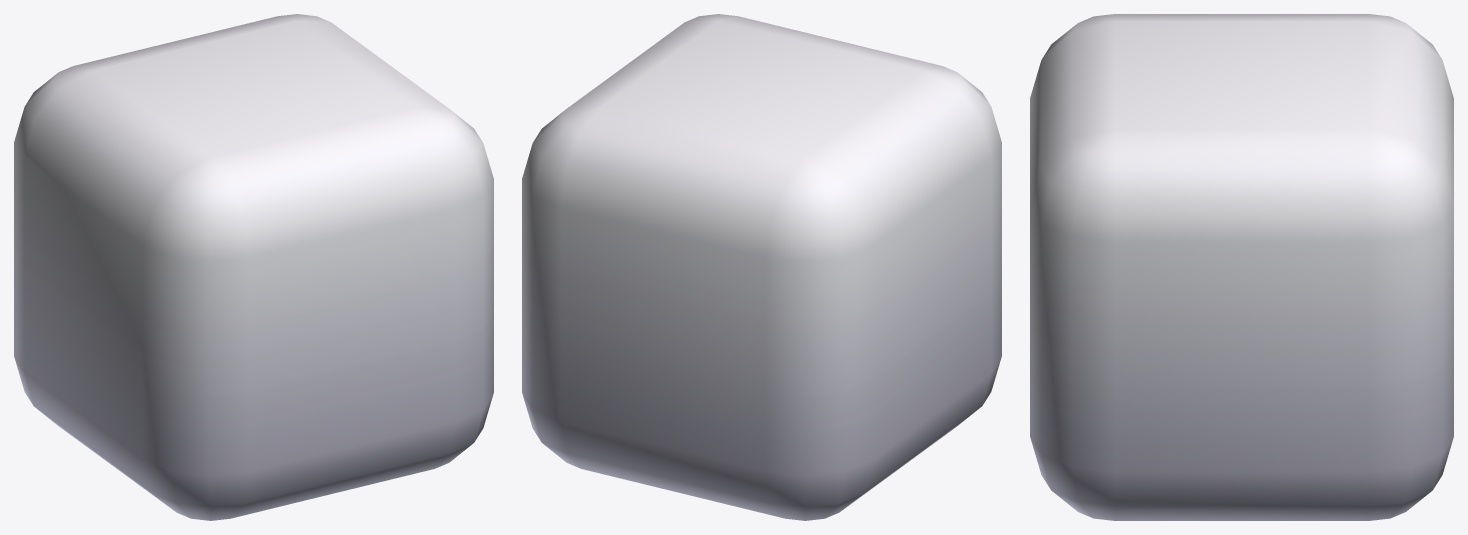
File: cloud.glb
3 views of the same model, side by side, from view 1: azimuth 30°, elevation 25°; view 2: azimuth 150°, elevation 25°; view 3: azimuth 270°, elevation 25° (orthographic). The views are drawn at different scales.
Parts seen in each view (by area): view 1: cloud; view 2: cloud; view 3: cloud.
Part boxes in pixels (box(x1,y1,x2,y2)): cloud: box(14, 14, 493, 520); cloud: box(522, 14, 1001, 520); cloud: box(1030, 14, 1453, 520).
Bounding box in the file's own units: 1 × 1 × 1.
1 material, 1 textured.
